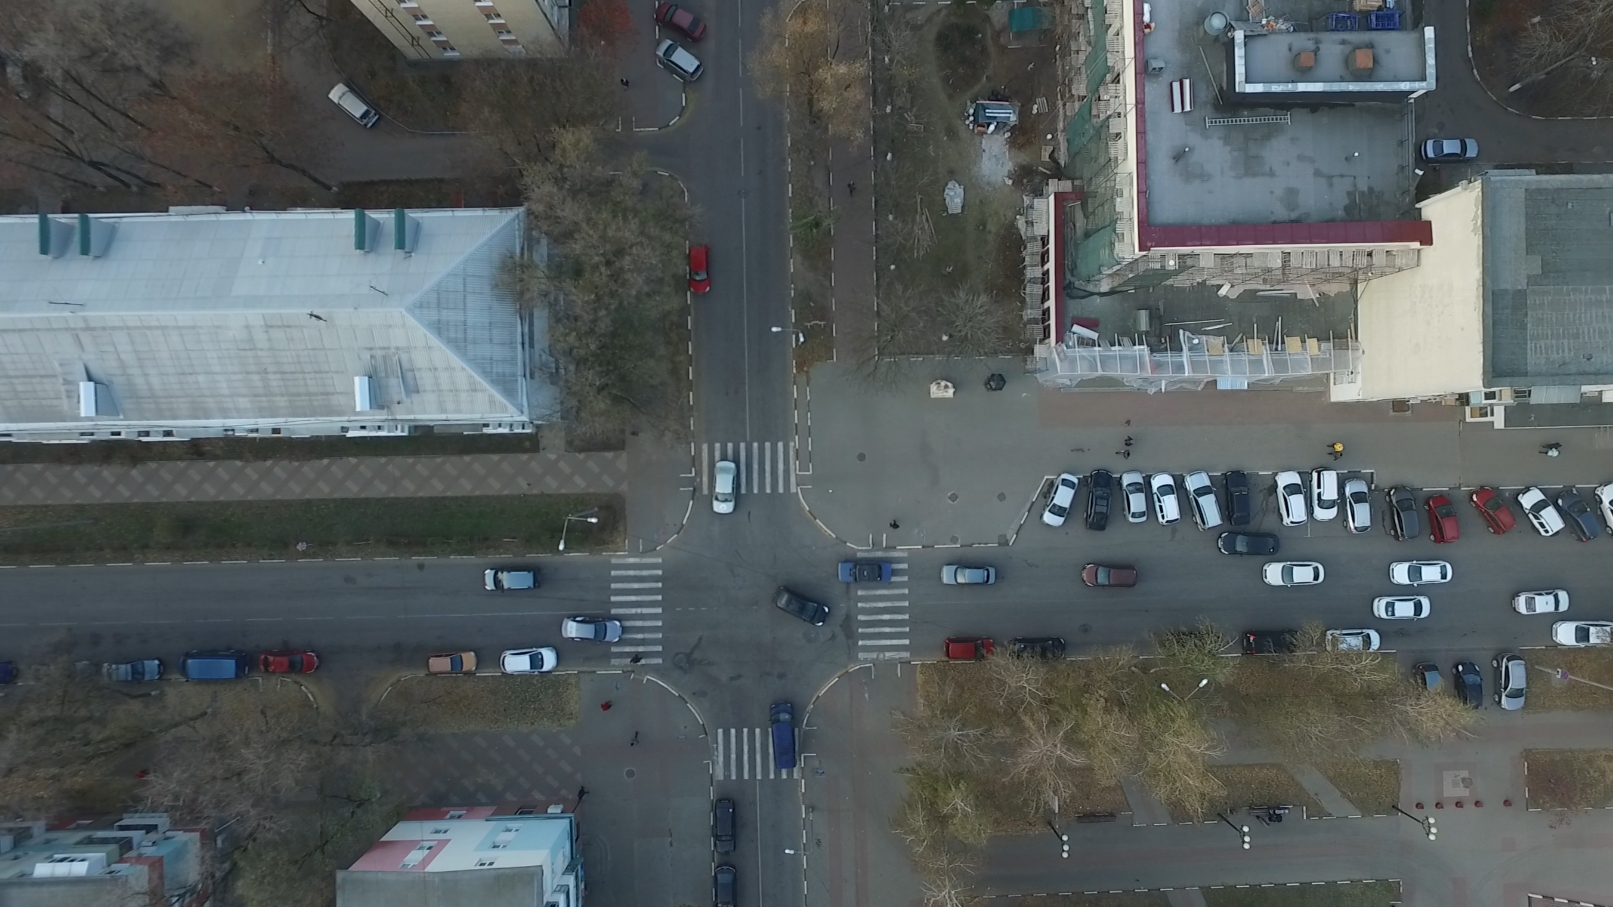car: (323, 82, 381, 131), (1182, 468, 1225, 533), (1554, 489, 1602, 545), (1489, 652, 1528, 715), (176, 648, 249, 681), (1083, 468, 1120, 534), (771, 585, 829, 626), (1517, 486, 1564, 535), (1039, 472, 1080, 528), (1422, 489, 1462, 546), (655, 3, 708, 45), (1468, 484, 1513, 533), (1386, 485, 1422, 545), (1273, 467, 1308, 528), (1151, 470, 1188, 528), (655, 39, 702, 83), (1225, 468, 1258, 528), (1387, 560, 1456, 588), (1218, 526, 1281, 556), (771, 699, 797, 772), (501, 643, 559, 674), (559, 614, 623, 642), (1550, 620, 1613, 649), (1006, 633, 1066, 662), (1309, 466, 1339, 524), (1373, 592, 1431, 621), (32, 658, 97, 683), (1121, 466, 1151, 522), (1452, 661, 1484, 712), (1343, 478, 1371, 535), (1511, 589, 1570, 617), (1264, 560, 1327, 586), (1324, 626, 1378, 655), (1420, 136, 1479, 163), (1080, 563, 1141, 588), (100, 659, 163, 683), (260, 652, 320, 678), (942, 636, 995, 663), (1162, 631, 1218, 658), (711, 461, 738, 516), (939, 563, 997, 588), (482, 566, 538, 591), (1243, 630, 1304, 653), (1414, 663, 1445, 709), (427, 649, 479, 674), (712, 798, 734, 856), (687, 243, 710, 293), (836, 561, 892, 583), (715, 865, 738, 907), (1, 663, 17, 681)
